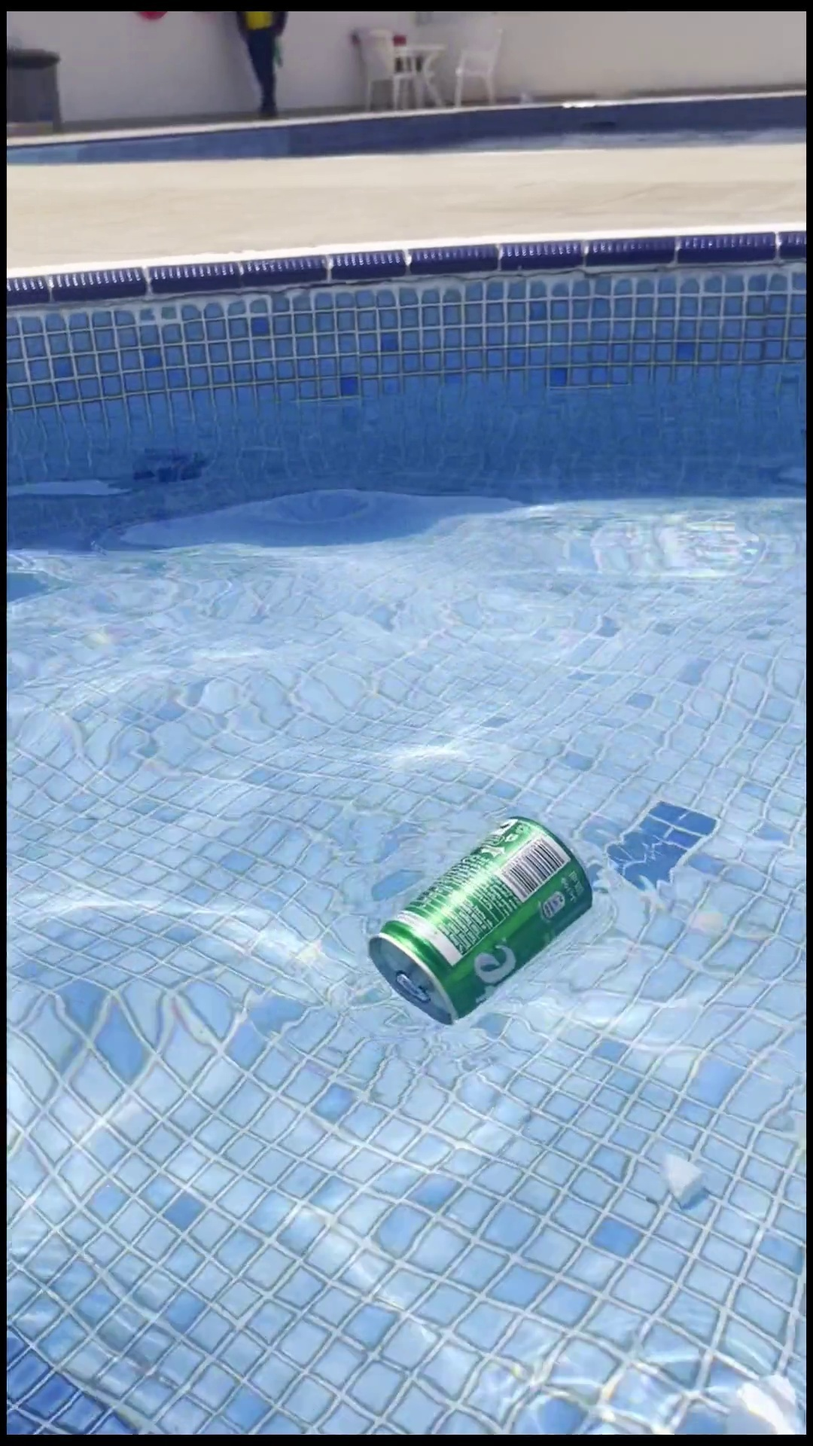debris: (362, 755, 595, 1054)
